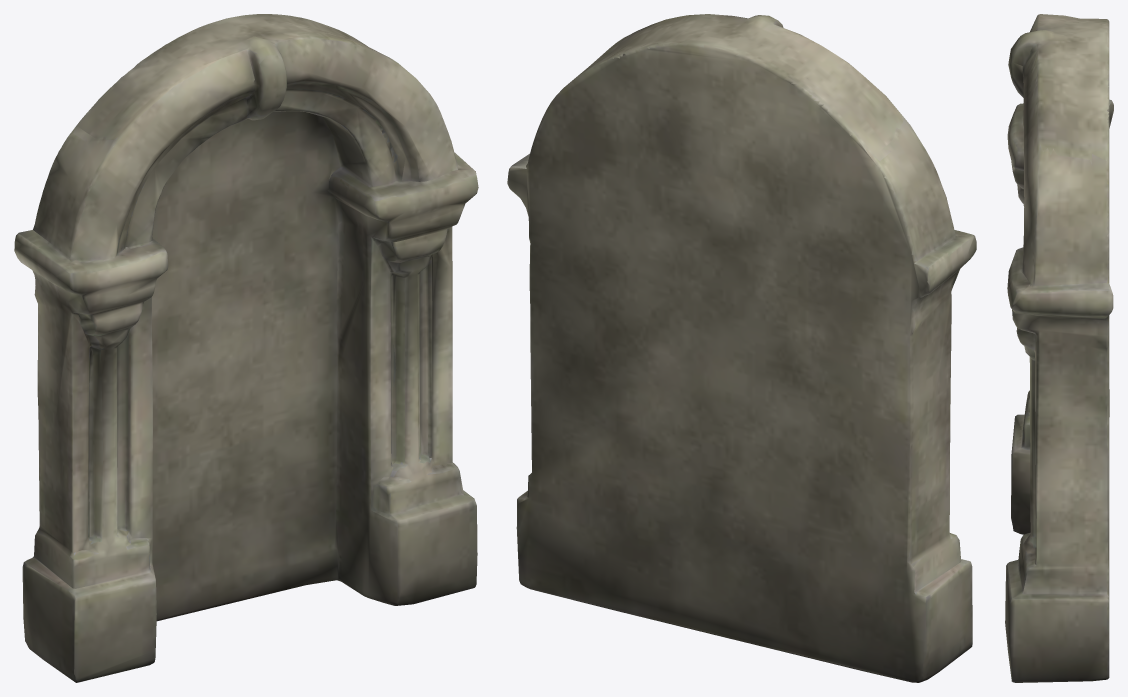
File: rustic-limestone-arched-doorway-v001.glb
3 renders of one model, left to right at view 1: azimuth 30°, elevation 25°; view 2: azimuth 150°, elevation 25°; view 3: azimuth 270°, elevation 25°, orthographic. The views are drawn at different scales.
Parts seen in each view (by area): view 1: rustic-limestone-arched-doorway; view 2: rustic-limestone-arched-doorway; view 3: rustic-limestone-arched-doorway.
Part boxes in pixels (x1,y1,x2,y2): rustic-limestone-arched-doorway: [14, 14, 478, 682]; rustic-limestone-arched-doorway: [507, 14, 976, 682]; rustic-limestone-arched-doorway: [1005, 14, 1113, 682].
Bounding box in the file's own units: 2.34 × 3.13 × 0.5516.
Materials: 1 (1 with a texture image).
